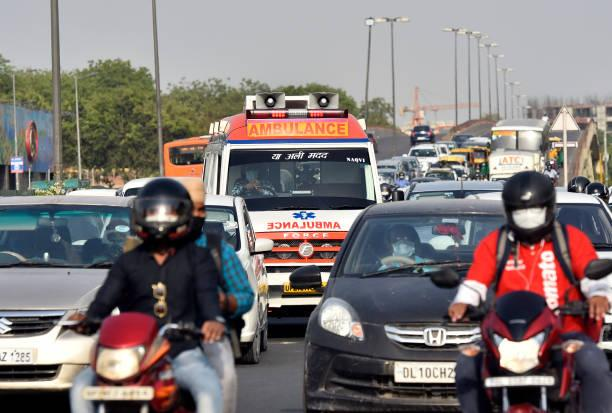AMBULANCE: (224, 122, 356, 147), (261, 208, 349, 237), (245, 102, 352, 124)
